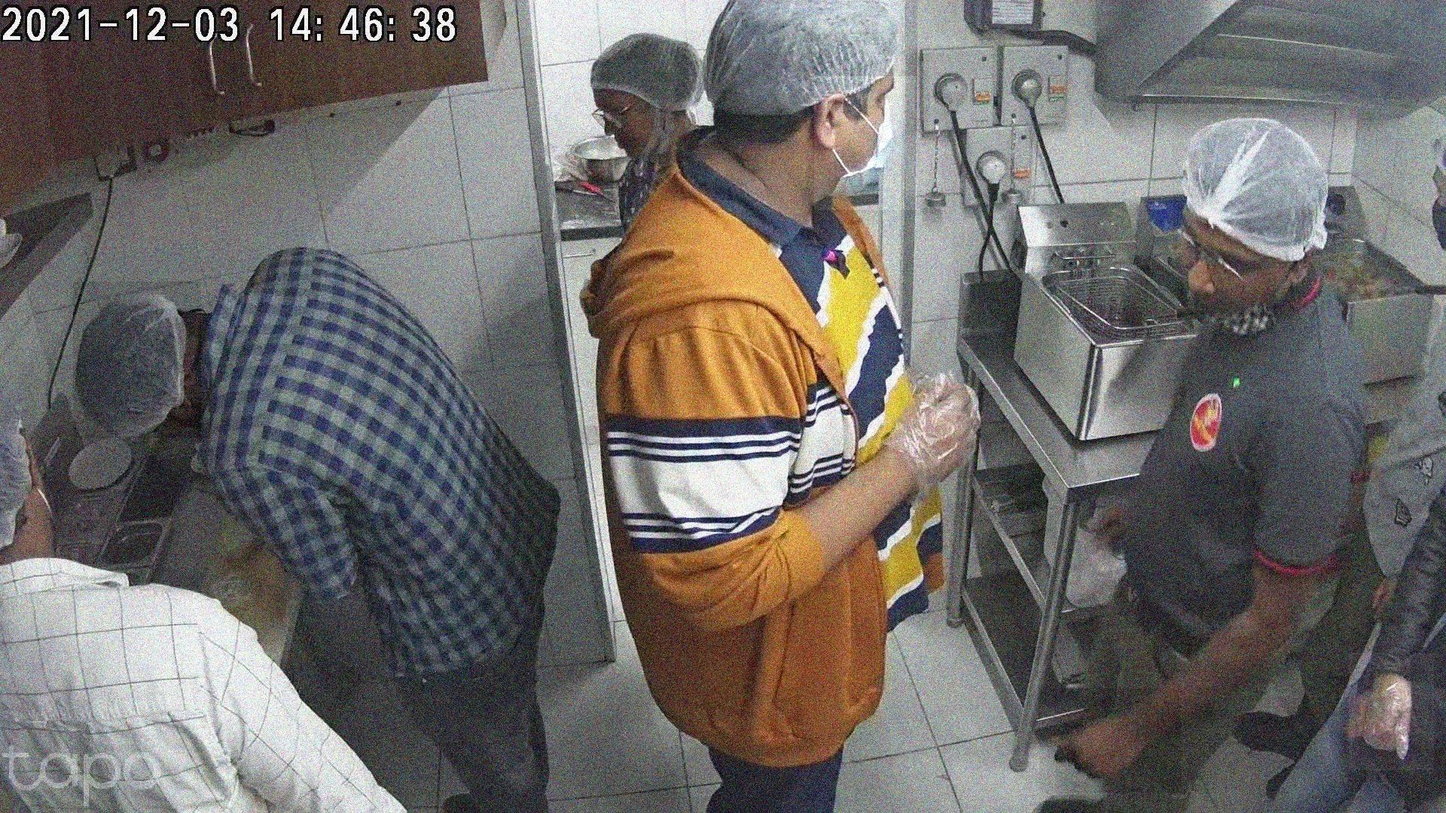apron: (892, 362, 1001, 505), (1349, 653, 1434, 771)
gloves: (1173, 108, 1347, 273), (704, 1, 915, 133), (74, 282, 202, 438), (589, 28, 708, 123)
mask: (814, 76, 917, 210)
no_apron: (1040, 688, 1182, 793)
no_hairnet: (1178, 215, 1276, 317), (590, 85, 660, 162)
